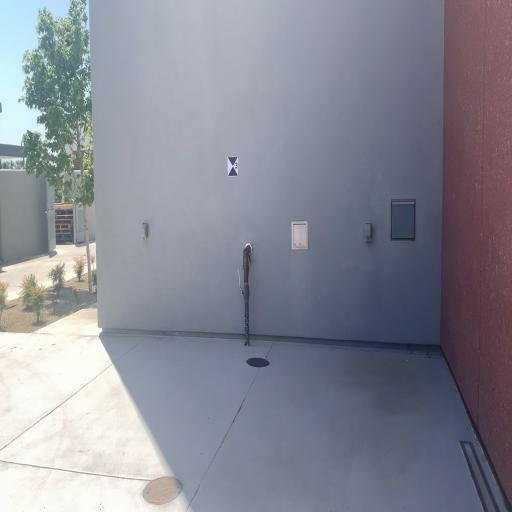target3: (227, 156, 239, 177)
